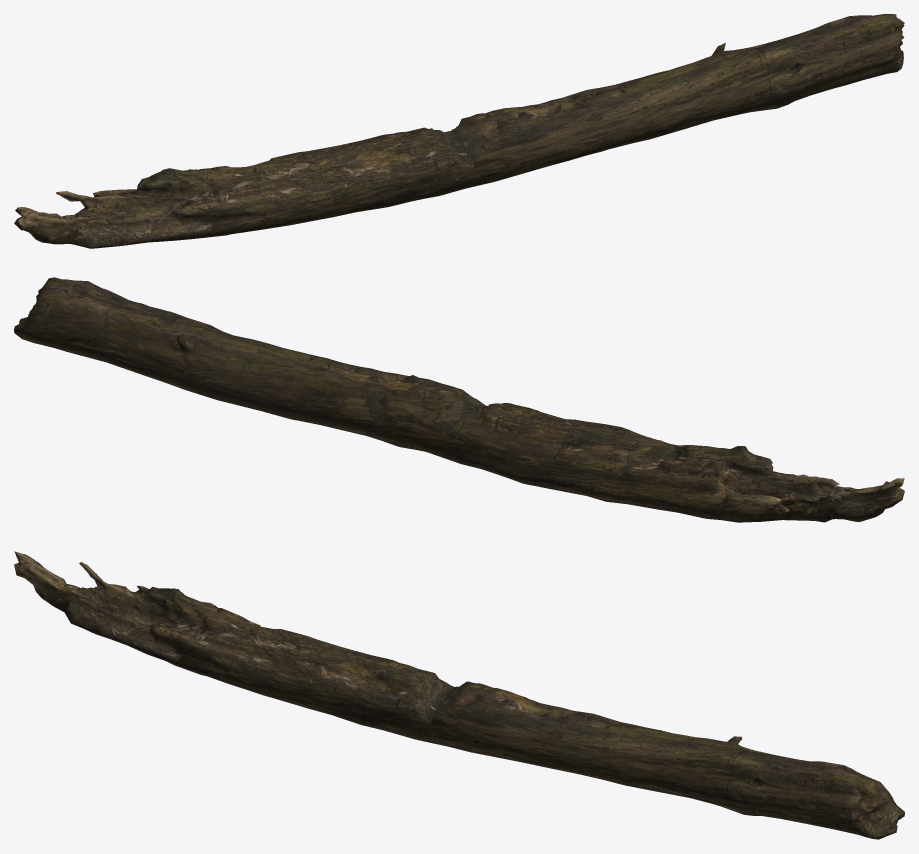
File: Scan_FallenTrunk.fbx
3 renders of one model, top to bottom at view 1: azimuth 30°, elevation 25°; view 2: azimuth 150°, elevation 25°; view 3: azimuth 330°, elevation 25°, orthographic.
Visible parts, largest first — view 1: Scan_FallenTrunk_LOD0; view 2: Scan_FallenTrunk_LOD0; view 3: Scan_FallenTrunk_LOD0.
Part boxes in pixels (x1,y1,x2,y2): Scan_FallenTrunk_LOD0: [14, 14, 904, 248]; Scan_FallenTrunk_LOD0: [14, 277, 904, 522]; Scan_FallenTrunk_LOD0: [14, 551, 904, 839].
Size of what is drawn, in the model's own units: 3.05 by 0.2901 by 0.2764.
